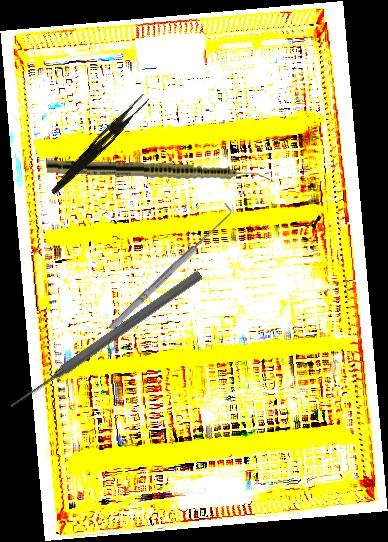Dressing Forceps: (49, 90, 150, 200)
Handpiece: (46, 159, 271, 184)
Hook Surgical: (102, 202, 238, 333)
Pusher: (5, 267, 205, 414)
